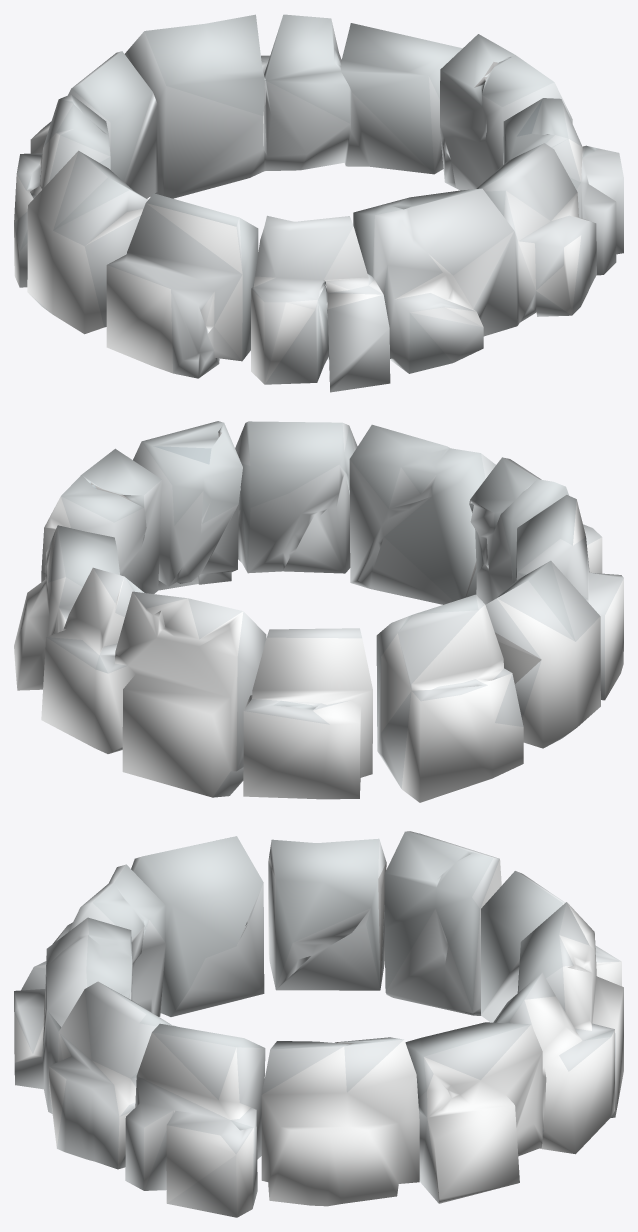
File: fx_cataclysm_crown.glb
3 views of the same model, one above another, from view 1: azimuth 30°, elevation 25°; view 2: azimuth 150°, elevation 25°; view 3: azimuth 270°, elevation 25° (orthographic). The views are drawn at different scales.
Visible parts, largest first — view 1: Mesh_0; view 2: Mesh_0; view 3: Mesh_0.
Boxes of the visible parts, x1,y1,x2,y2 form: Mesh_0: [14, 14, 623, 392]; Mesh_0: [14, 421, 623, 802]; Mesh_0: [14, 831, 623, 1217].
Size of the model in its own units: 2.23 by 0.7 by 2.17.
1 material, 1 textured.
